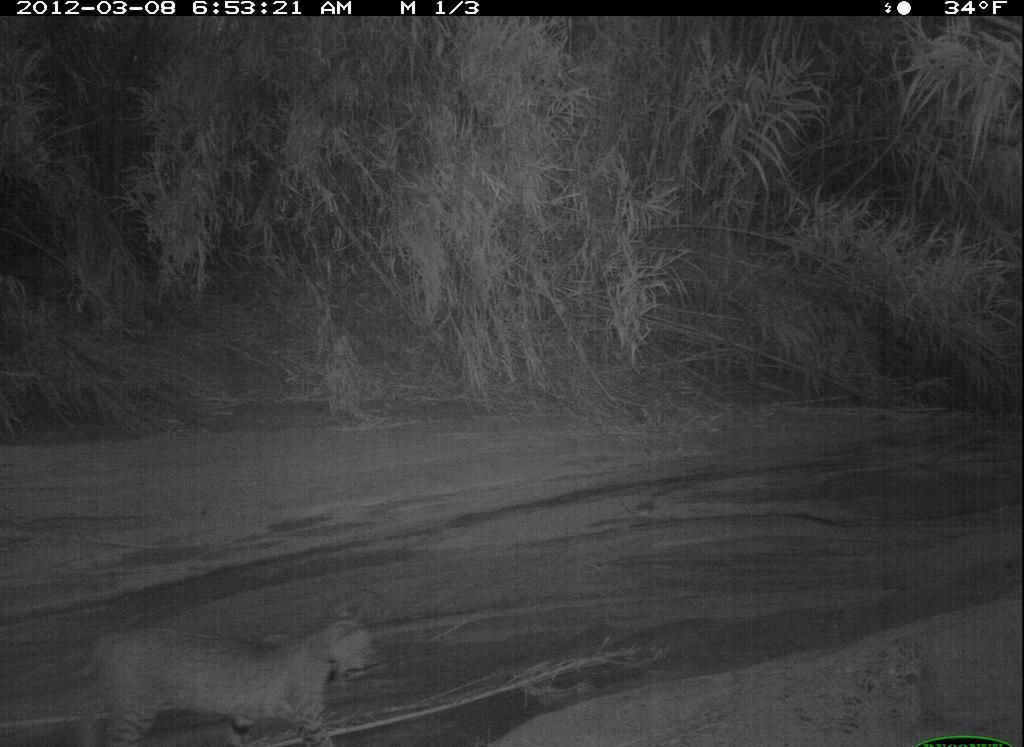bobcat: (48, 602, 385, 747)
